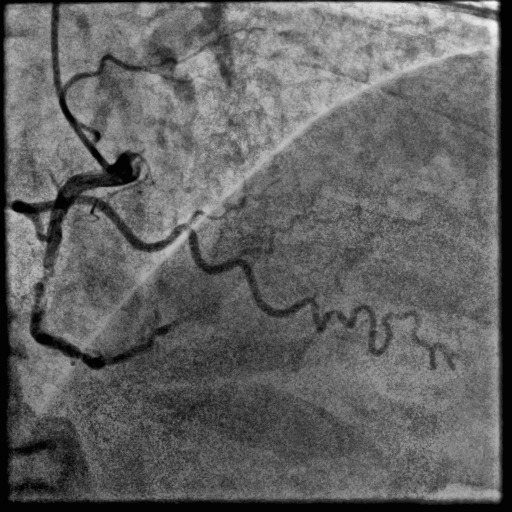rca: (29, 154, 155, 371)
